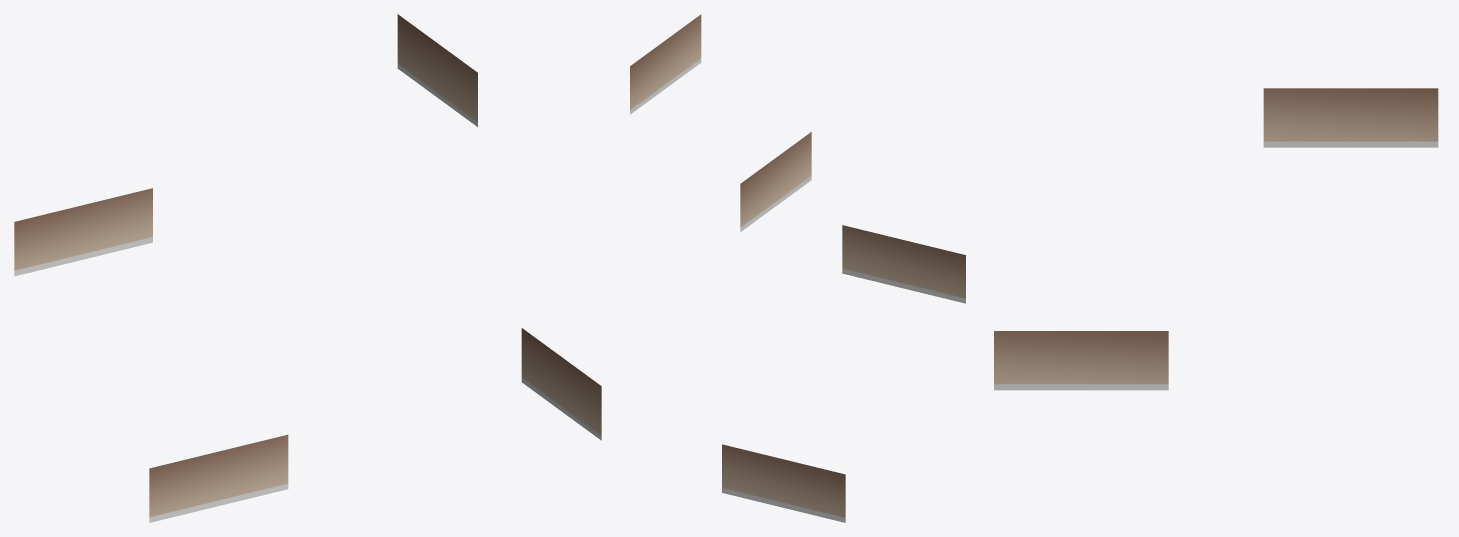
3 renders of one model, left to right at view 1: azimuth 30°, elevation 25°; view 2: azimuth 150°, elevation 25°; view 3: azimuth 270°, elevation 25°, orthographic. The views are drawn at different scales.
Parts seen in each view (by area): view 1: Plane.003, Plane.005, Plane.004, Plane.006; view 2: Plane.003, Plane.005, Plane.004, Plane.006; view 3: Plane.006, Plane.004.
Part boxes in pixels (box(x1,y1,x2,y2)): Plane.003: box(149, 434, 288, 522); Plane.005: box(14, 188, 152, 276); Plane.004: box(521, 328, 601, 440); Plane.006: box(397, 14, 477, 126); Plane.003: box(722, 444, 845, 522); Plane.005: box(842, 225, 965, 303); Plane.004: box(740, 132, 811, 231); Plane.006: box(630, 14, 701, 114); Plane.006: box(1263, 88, 1438, 147); Plane.004: box(994, 331, 1168, 390).
Size of the model in its own units: 14.59 by 16.54 by 13.76.
1 material, 1 textured.
